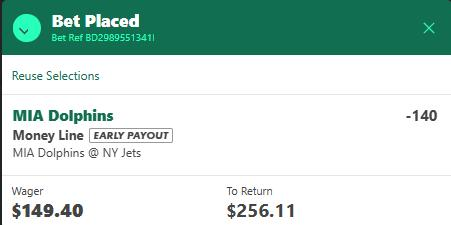game: (10, 146, 144, 162)
odds: (405, 108, 439, 125)
payout: (225, 202, 297, 220)
wager: (10, 201, 85, 221)
